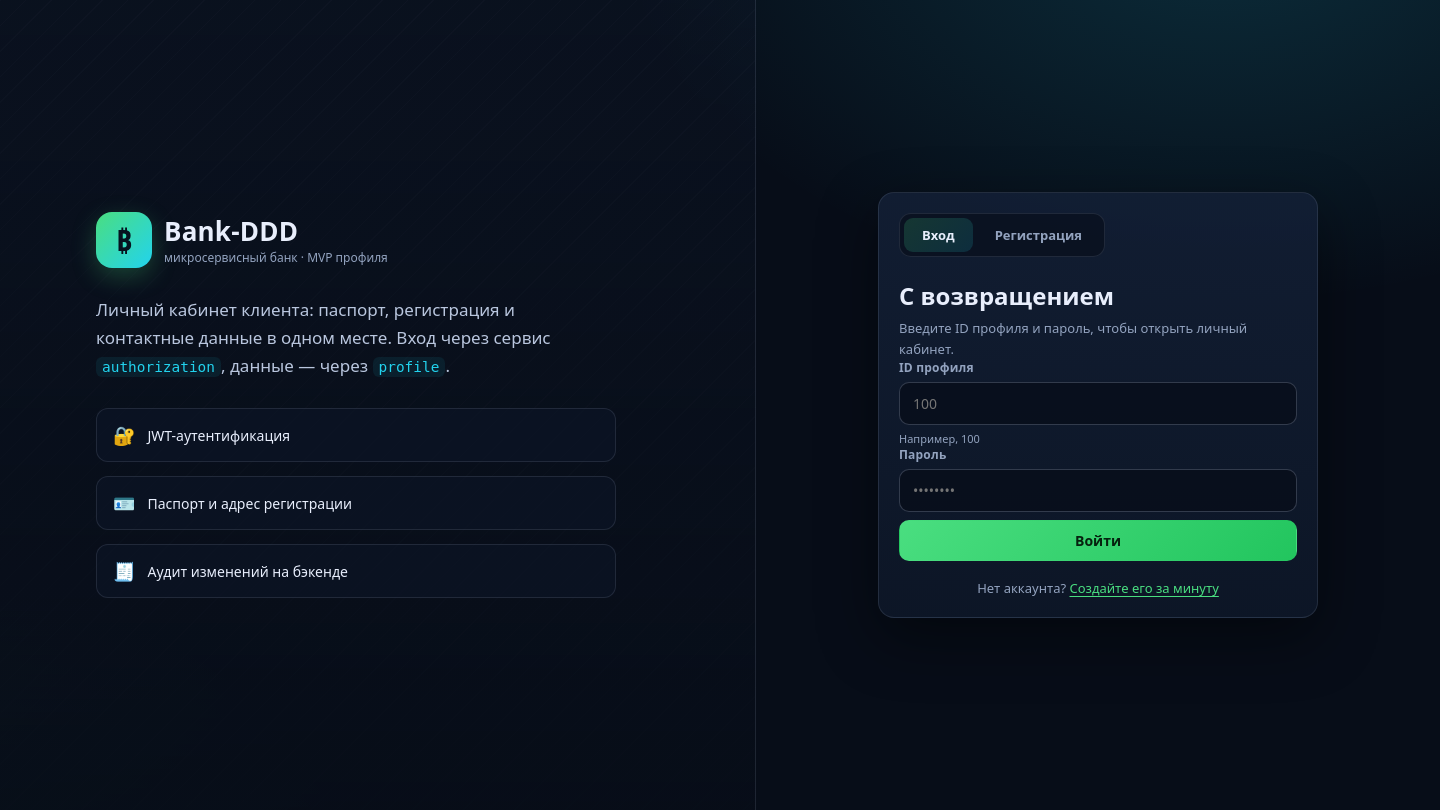
Test: LoginPage › показывает ошибки валидации при пустой форме
This screenshot has width=1440, height=810.
Click the button "Войти".
click(1098, 540)  # box [899,520,1297,561]
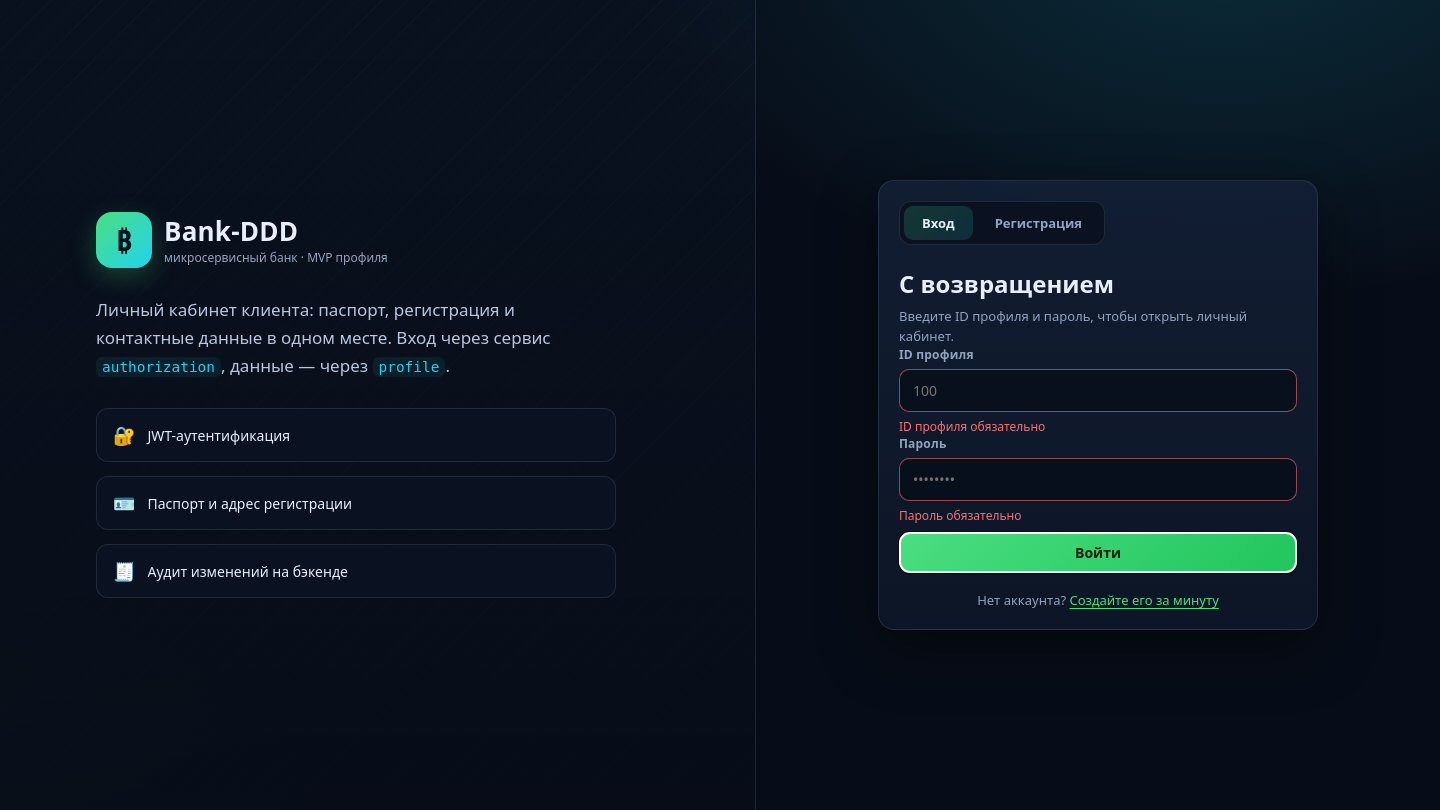
expect the text "ID профиля обязательно" is shown: met, box [899,418,1045,435]
expect the text "Пароль обязательно" is shown: met, box [899,507,1021,524]
